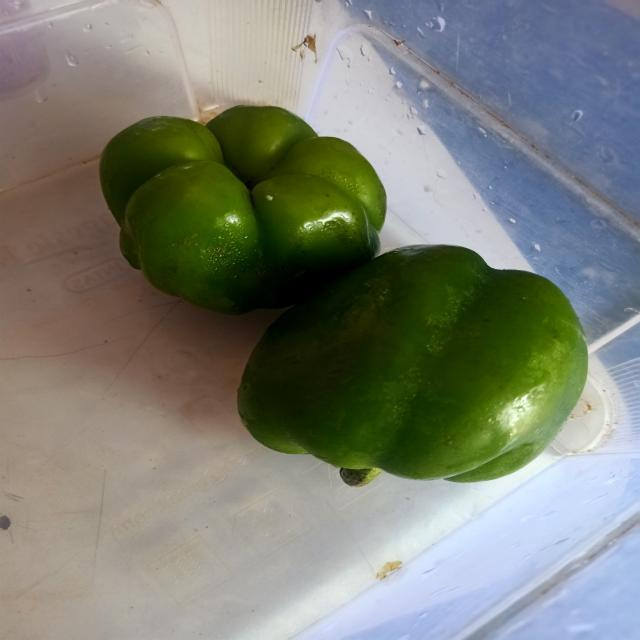Capsicum: (217, 238, 621, 509), (93, 91, 402, 321)
